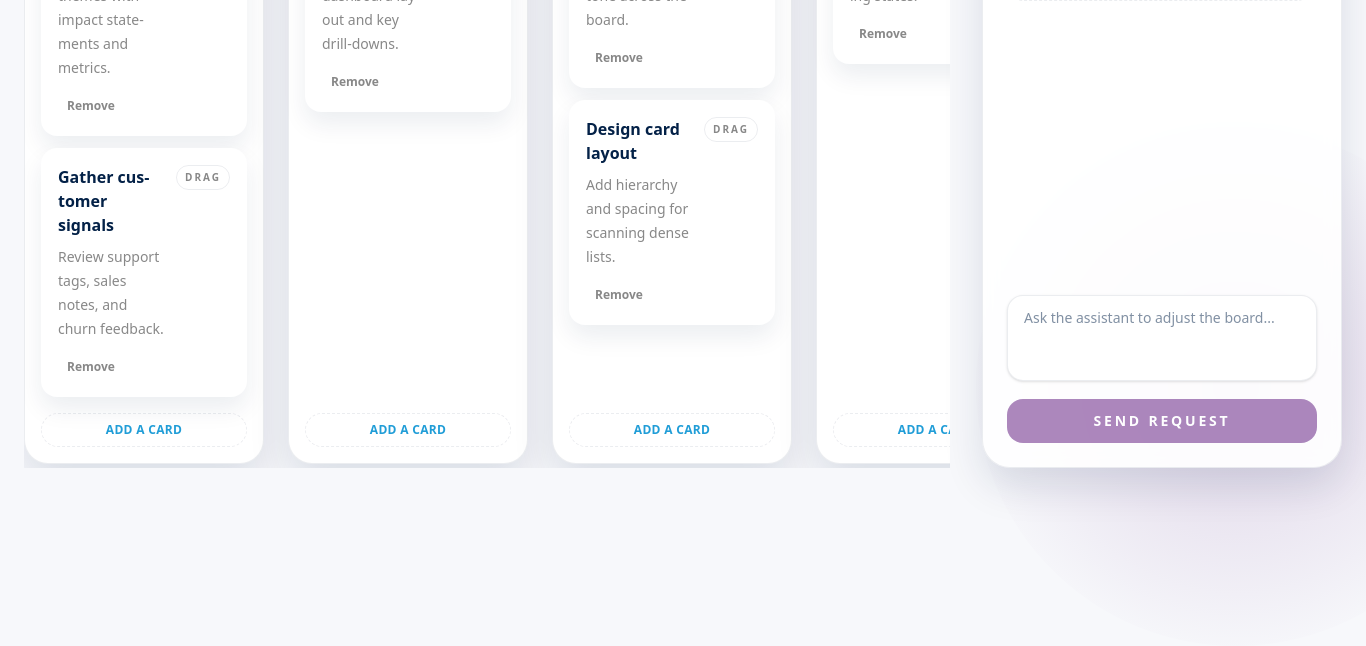
Test: KanbanBoard › adds and removes a card
(page scrolled)
Click the button "Add a card" below "Gather customer signals" at [144, 430], box [41,413,247,447]
(page scrolled)
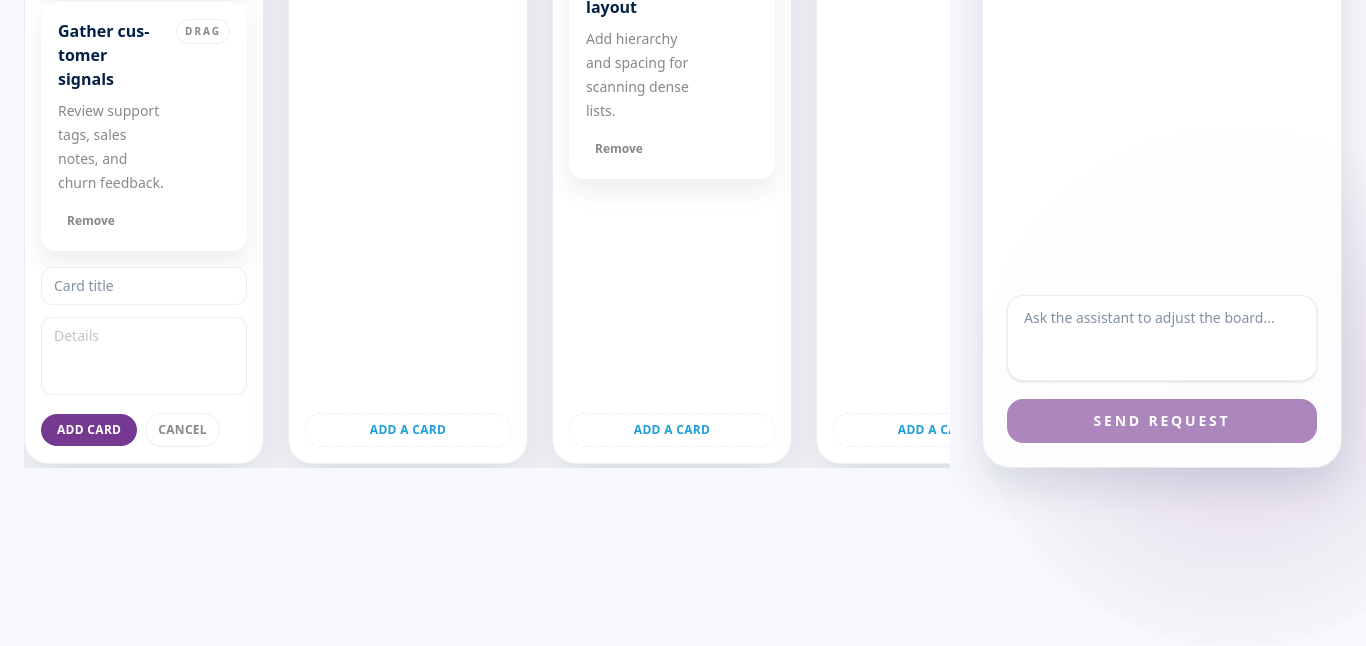
Type "New card" into the field with placeholder "Card title" at [144, 286], box [41,267,247,305]
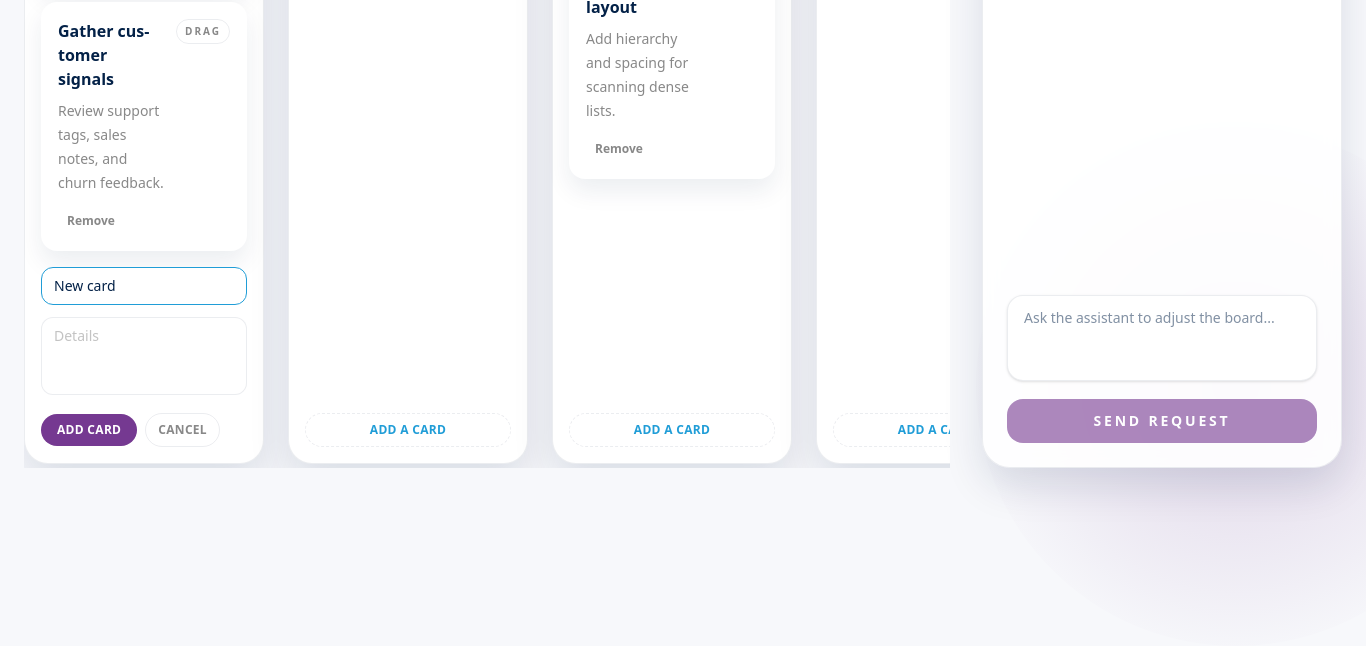
Type "Notes" into the text box with placeholder "Details" at [144, 356], box [41,317,247,395]
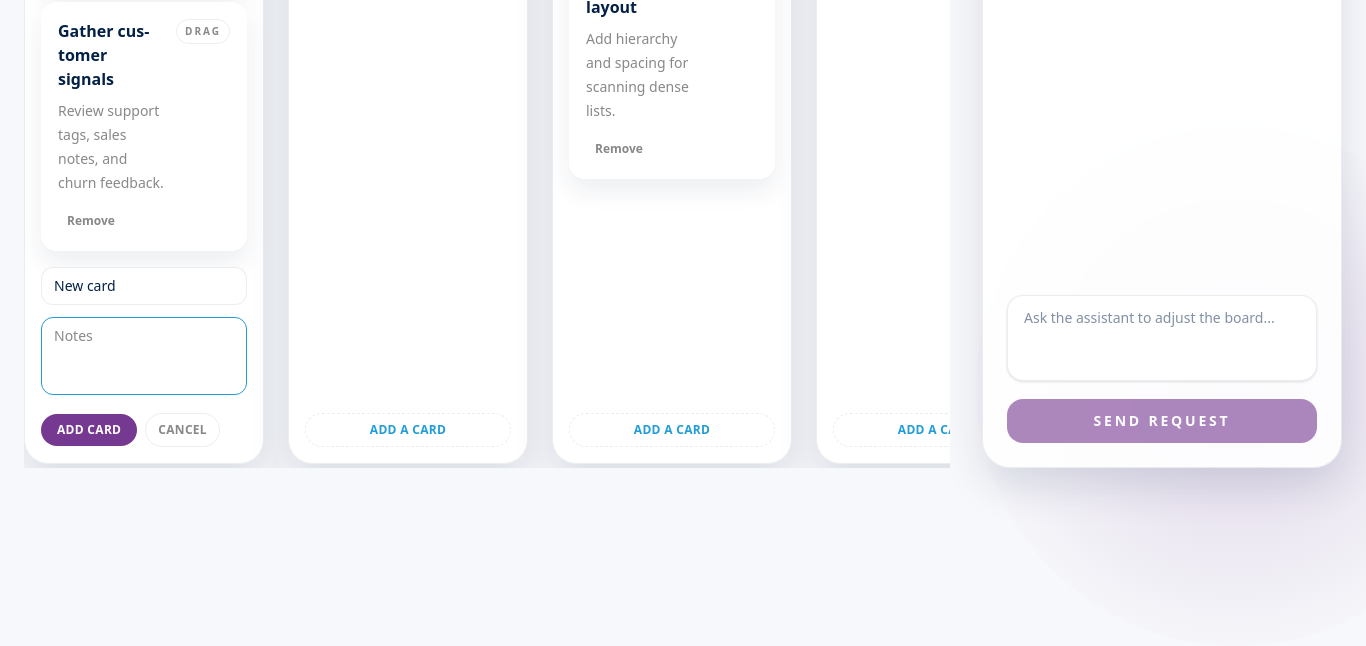
Click the button "Add card" at [89, 430], box [41,414,137,446]
(page scrolled)
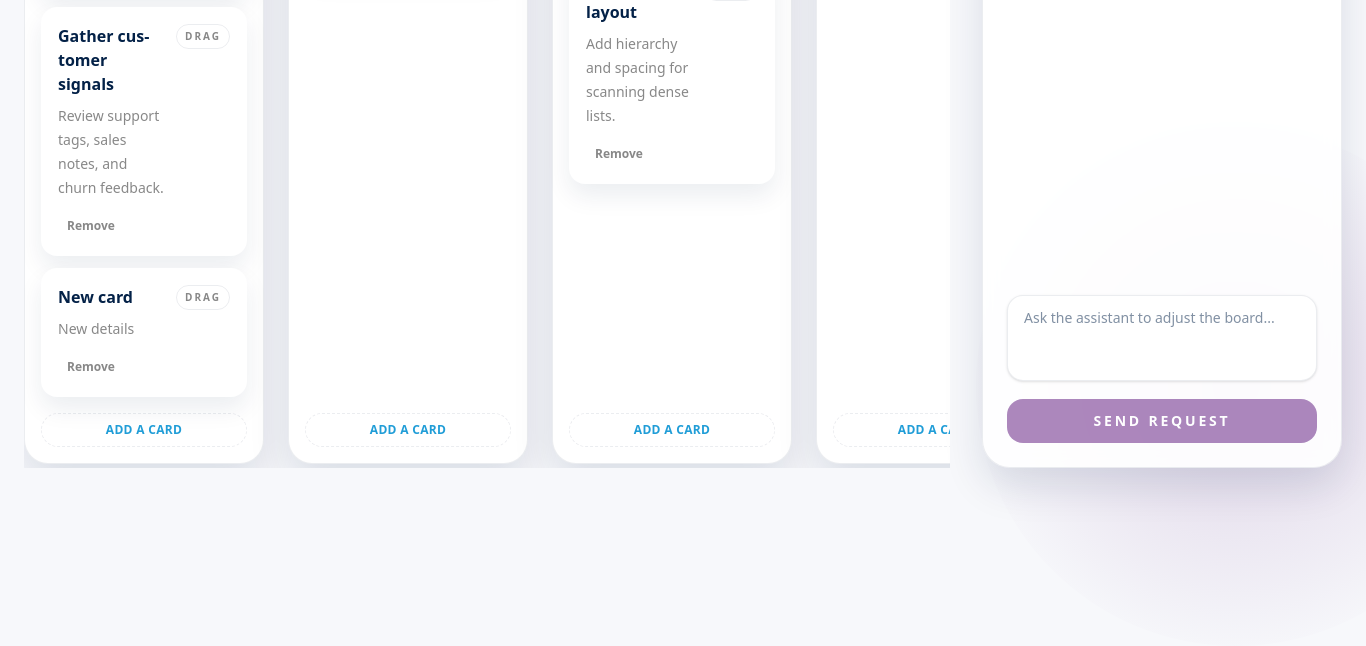
Check: the heading "New card" is shown, box [58,286,133,308]
Click the button with aria-label "delete new card" at [91, 367], box [58,354,124,380]
(page scrolled)
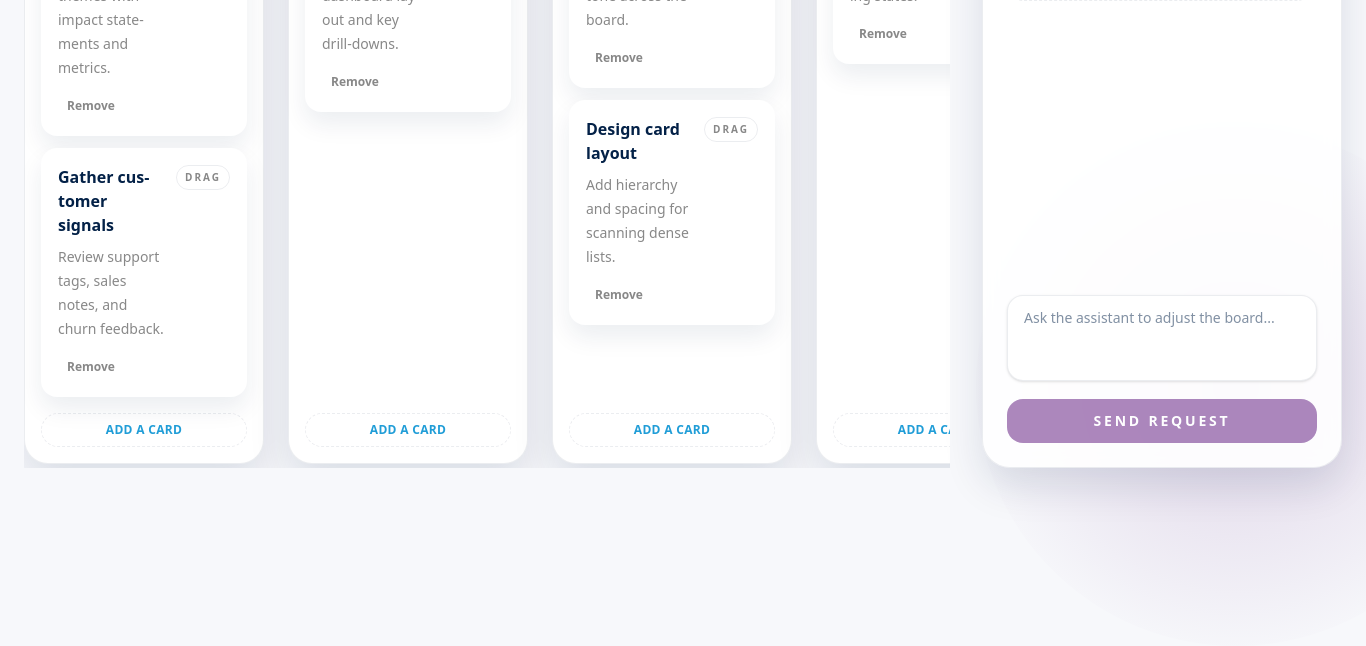
Check: the heading "New card" is gone
